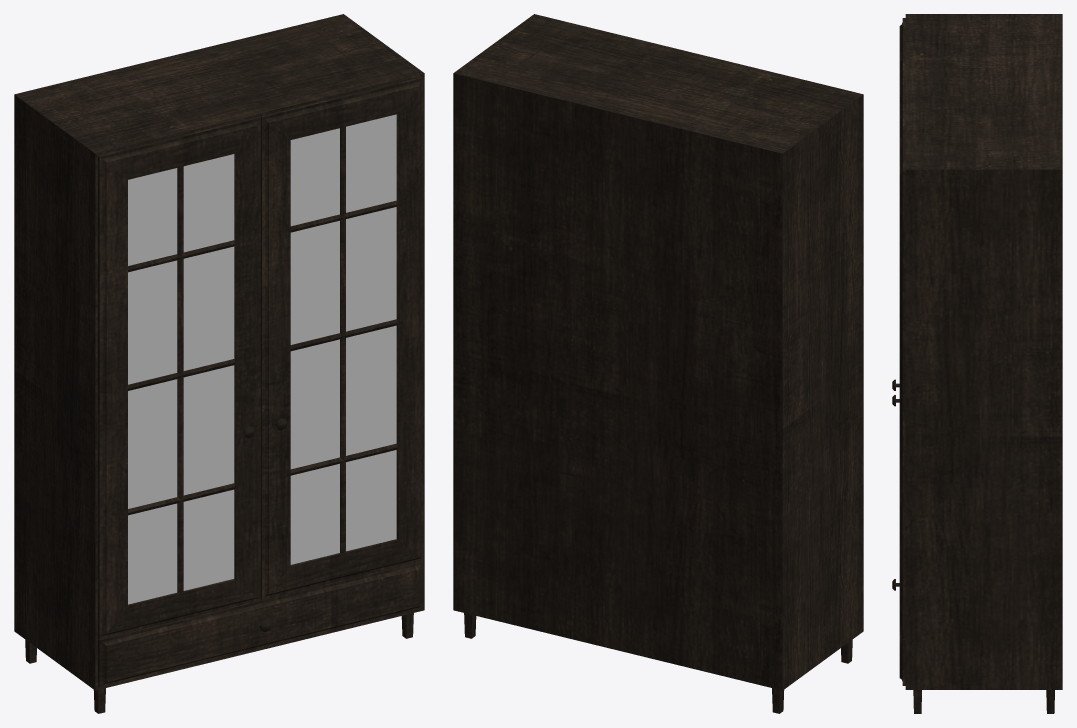
Rendered from wardrobe_mp_2_2.obj.
The picture shows the model from 3 angles, left to right: view 1: azimuth 30°, elevation 25°; view 2: azimuth 150°, elevation 25°; view 3: azimuth 270°, elevation 25°; orthographic projection. The views are drawn at different scales.
Parts seen in each view (by area): view 1: wardrobe_mp_2_2_door_2, wardrobe_mp_2_2_door_1, wardrobe_mp_2_2, wardrobe_mp_2_2_drawer; view 2: wardrobe_mp_2_2; view 3: wardrobe_mp_2_2, wardrobe_mp_2_2_door_2, wardrobe_mp_2_2_door_1, wardrobe_mp_2_2_drawer.
Part boxes in pixels (<box>): wardrobe_mp_2_2_door_2: <box>260,77,423,599</box>; wardrobe_mp_2_2_door_1: <box>98,116,260,639</box>; wardrobe_mp_2_2: <box>14,14,424,713</box>; wardrobe_mp_2_2_drawer: <box>98,561,423,688</box>; wardrobe_mp_2_2: <box>453,14,863,713</box>; wardrobe_mp_2_2: <box>905,14,1062,713</box>; wardrobe_mp_2_2_door_2: <box>892,95,905,638</box>; wardrobe_mp_2_2_door_1: <box>892,18,905,390</box>; wardrobe_mp_2_2_drawer: <box>892,579,905,685</box>.
Bounding box in the file's own units: 1.22 × 2 × 0.5645.
